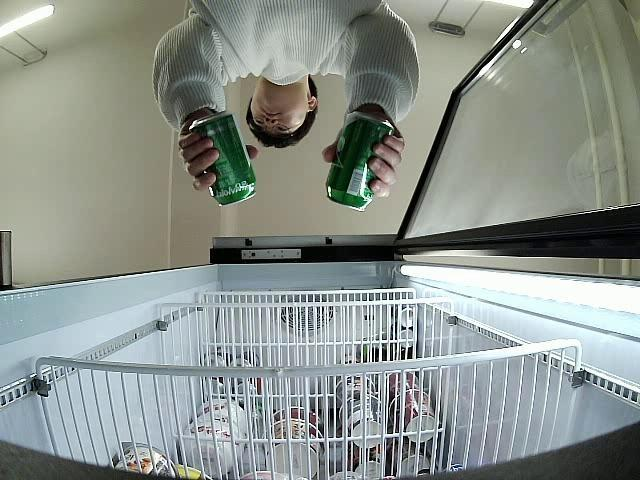12_chilsungCider: (327, 114, 398, 211), (188, 110, 258, 206)
